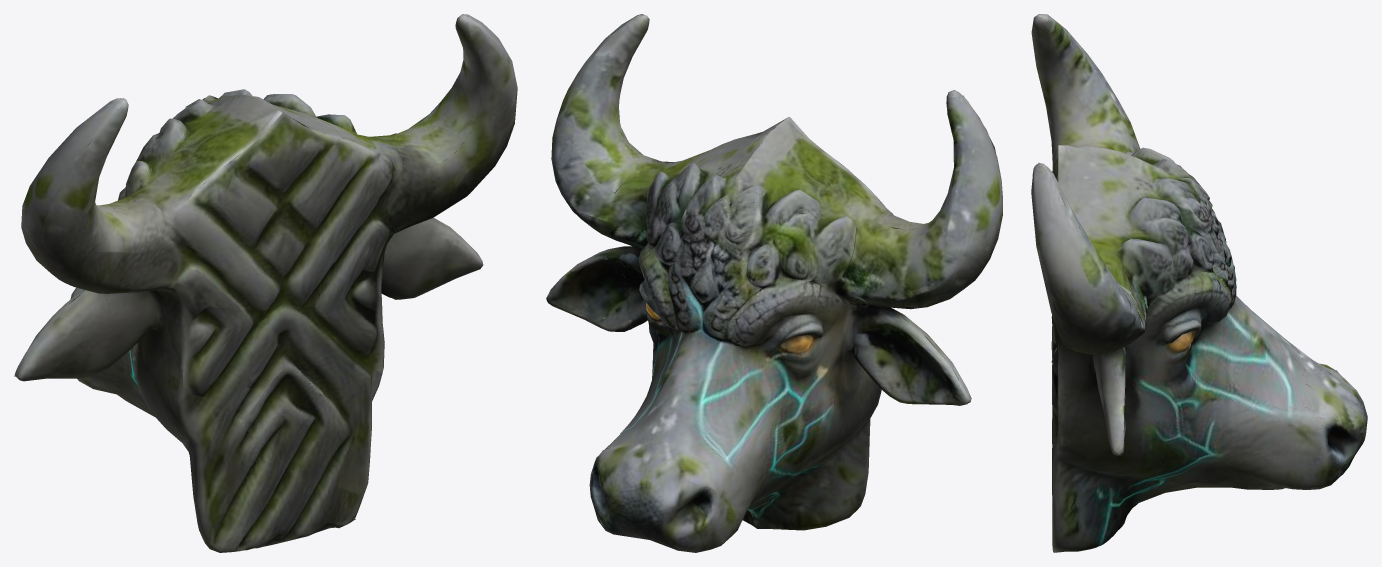
Rendered from kerbau-langit.glb.
3 renders of one model, left to right at view 1: azimuth 30°, elevation 25°; view 2: azimuth 150°, elevation 25°; view 3: azimuth 270°, elevation 25°, orthographic. The views are drawn at different scales.
Visible parts, largest first — view 1: kerbau-langit; view 2: kerbau-langit; view 3: kerbau-langit.
Boxes of the visible parts, x1=… form: kerbau-langit: x1=14, y1=14, x2=517, y2=552; kerbau-langit: x1=546, y1=14, x2=1002, y2=552; kerbau-langit: x1=1031, y1=14, x2=1367, y2=552.
Size of the model in its own units: 1.01 by 1 by 0.6911.
Materials: 1 (1 with a texture image).
